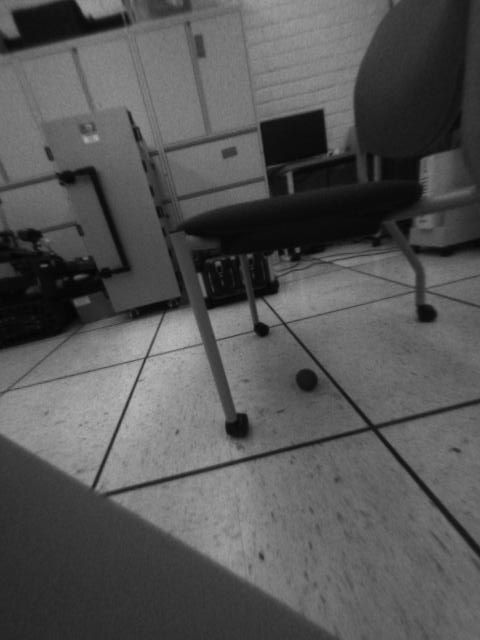dogtoy: (292, 359, 325, 395)
